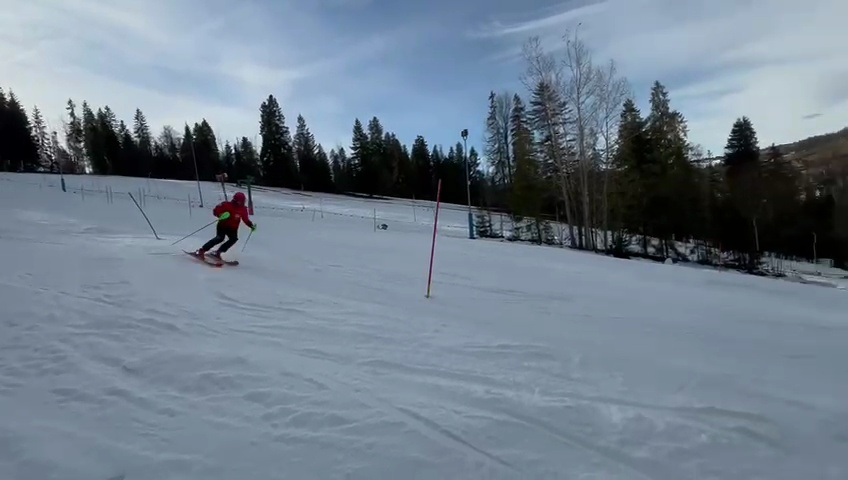gate: (421, 174, 447, 306), (125, 188, 163, 242), (187, 133, 207, 210), (188, 165, 203, 212), (104, 185, 113, 205), (59, 173, 67, 194)
